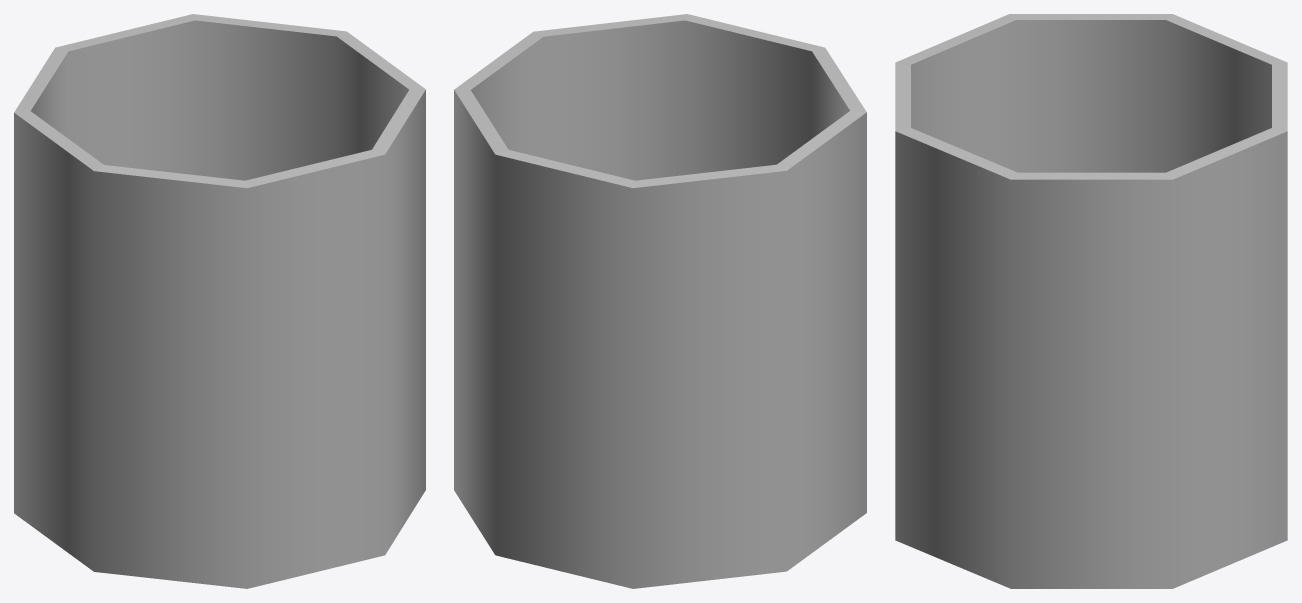
File: Itr_Lamp_Cap2_01.FBX
3 renders of one model, left to right at view 1: azimuth 30°, elevation 25°; view 2: azimuth 150°, elevation 25°; view 3: azimuth 270°, elevation 25°, orthographic. The views are drawn at different scales.
Parts seen in each view (by area): view 1: Itr_Lamp_Cap2_01; view 2: Itr_Lamp_Cap2_01; view 3: Itr_Lamp_Cap2_01.
Part boxes in pixels (x1,y1,x2,y2): Itr_Lamp_Cap2_01: (14,14,425,588); Itr_Lamp_Cap2_01: (454,14,866,588); Itr_Lamp_Cap2_01: (895,14,1287,588).
Size of the model in its own units: 7.69 by 8.87 by 7.69.
